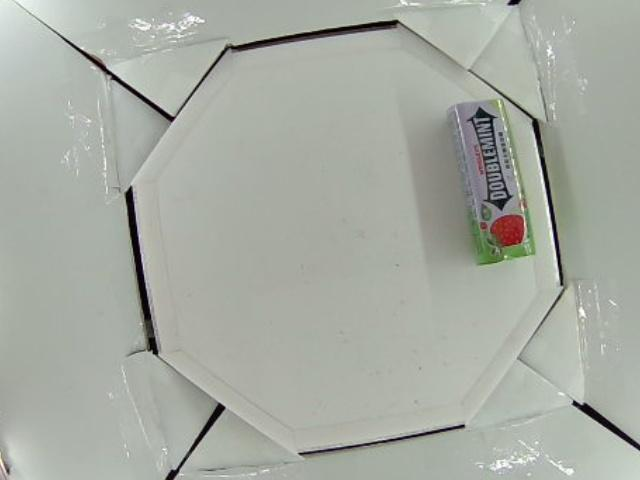Bottle: (446, 98, 538, 268)
